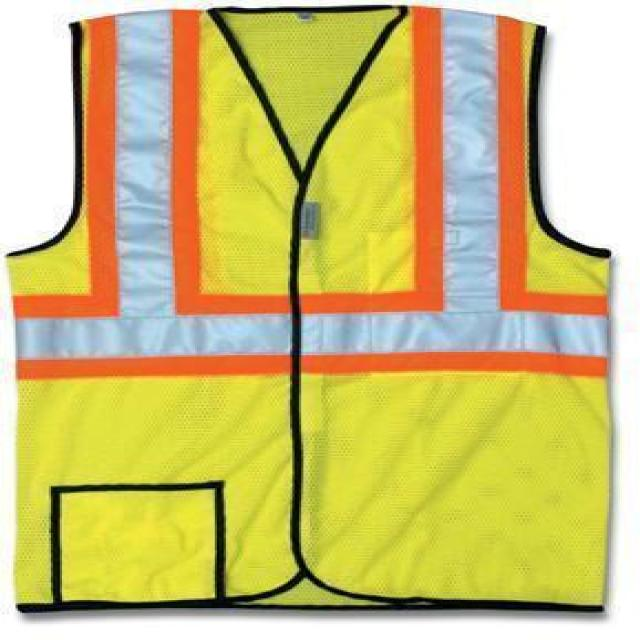Vest: (7, 5, 616, 618)
